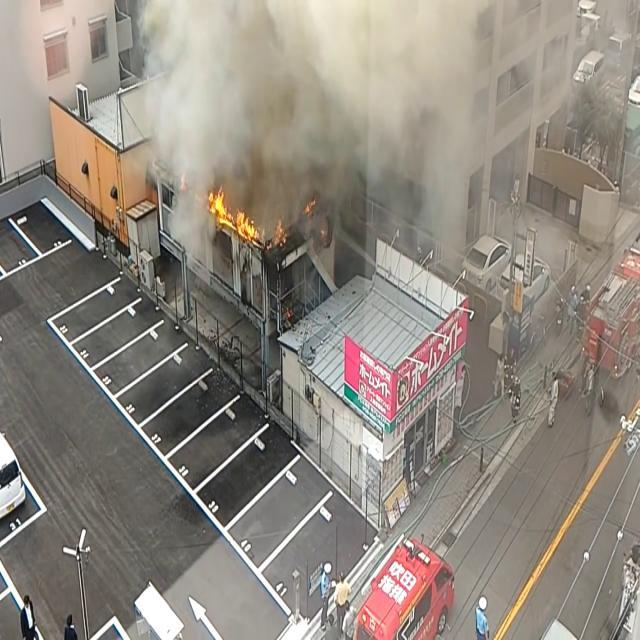Fire: (206, 186, 265, 256)
Smoke: (134, 0, 530, 259)
